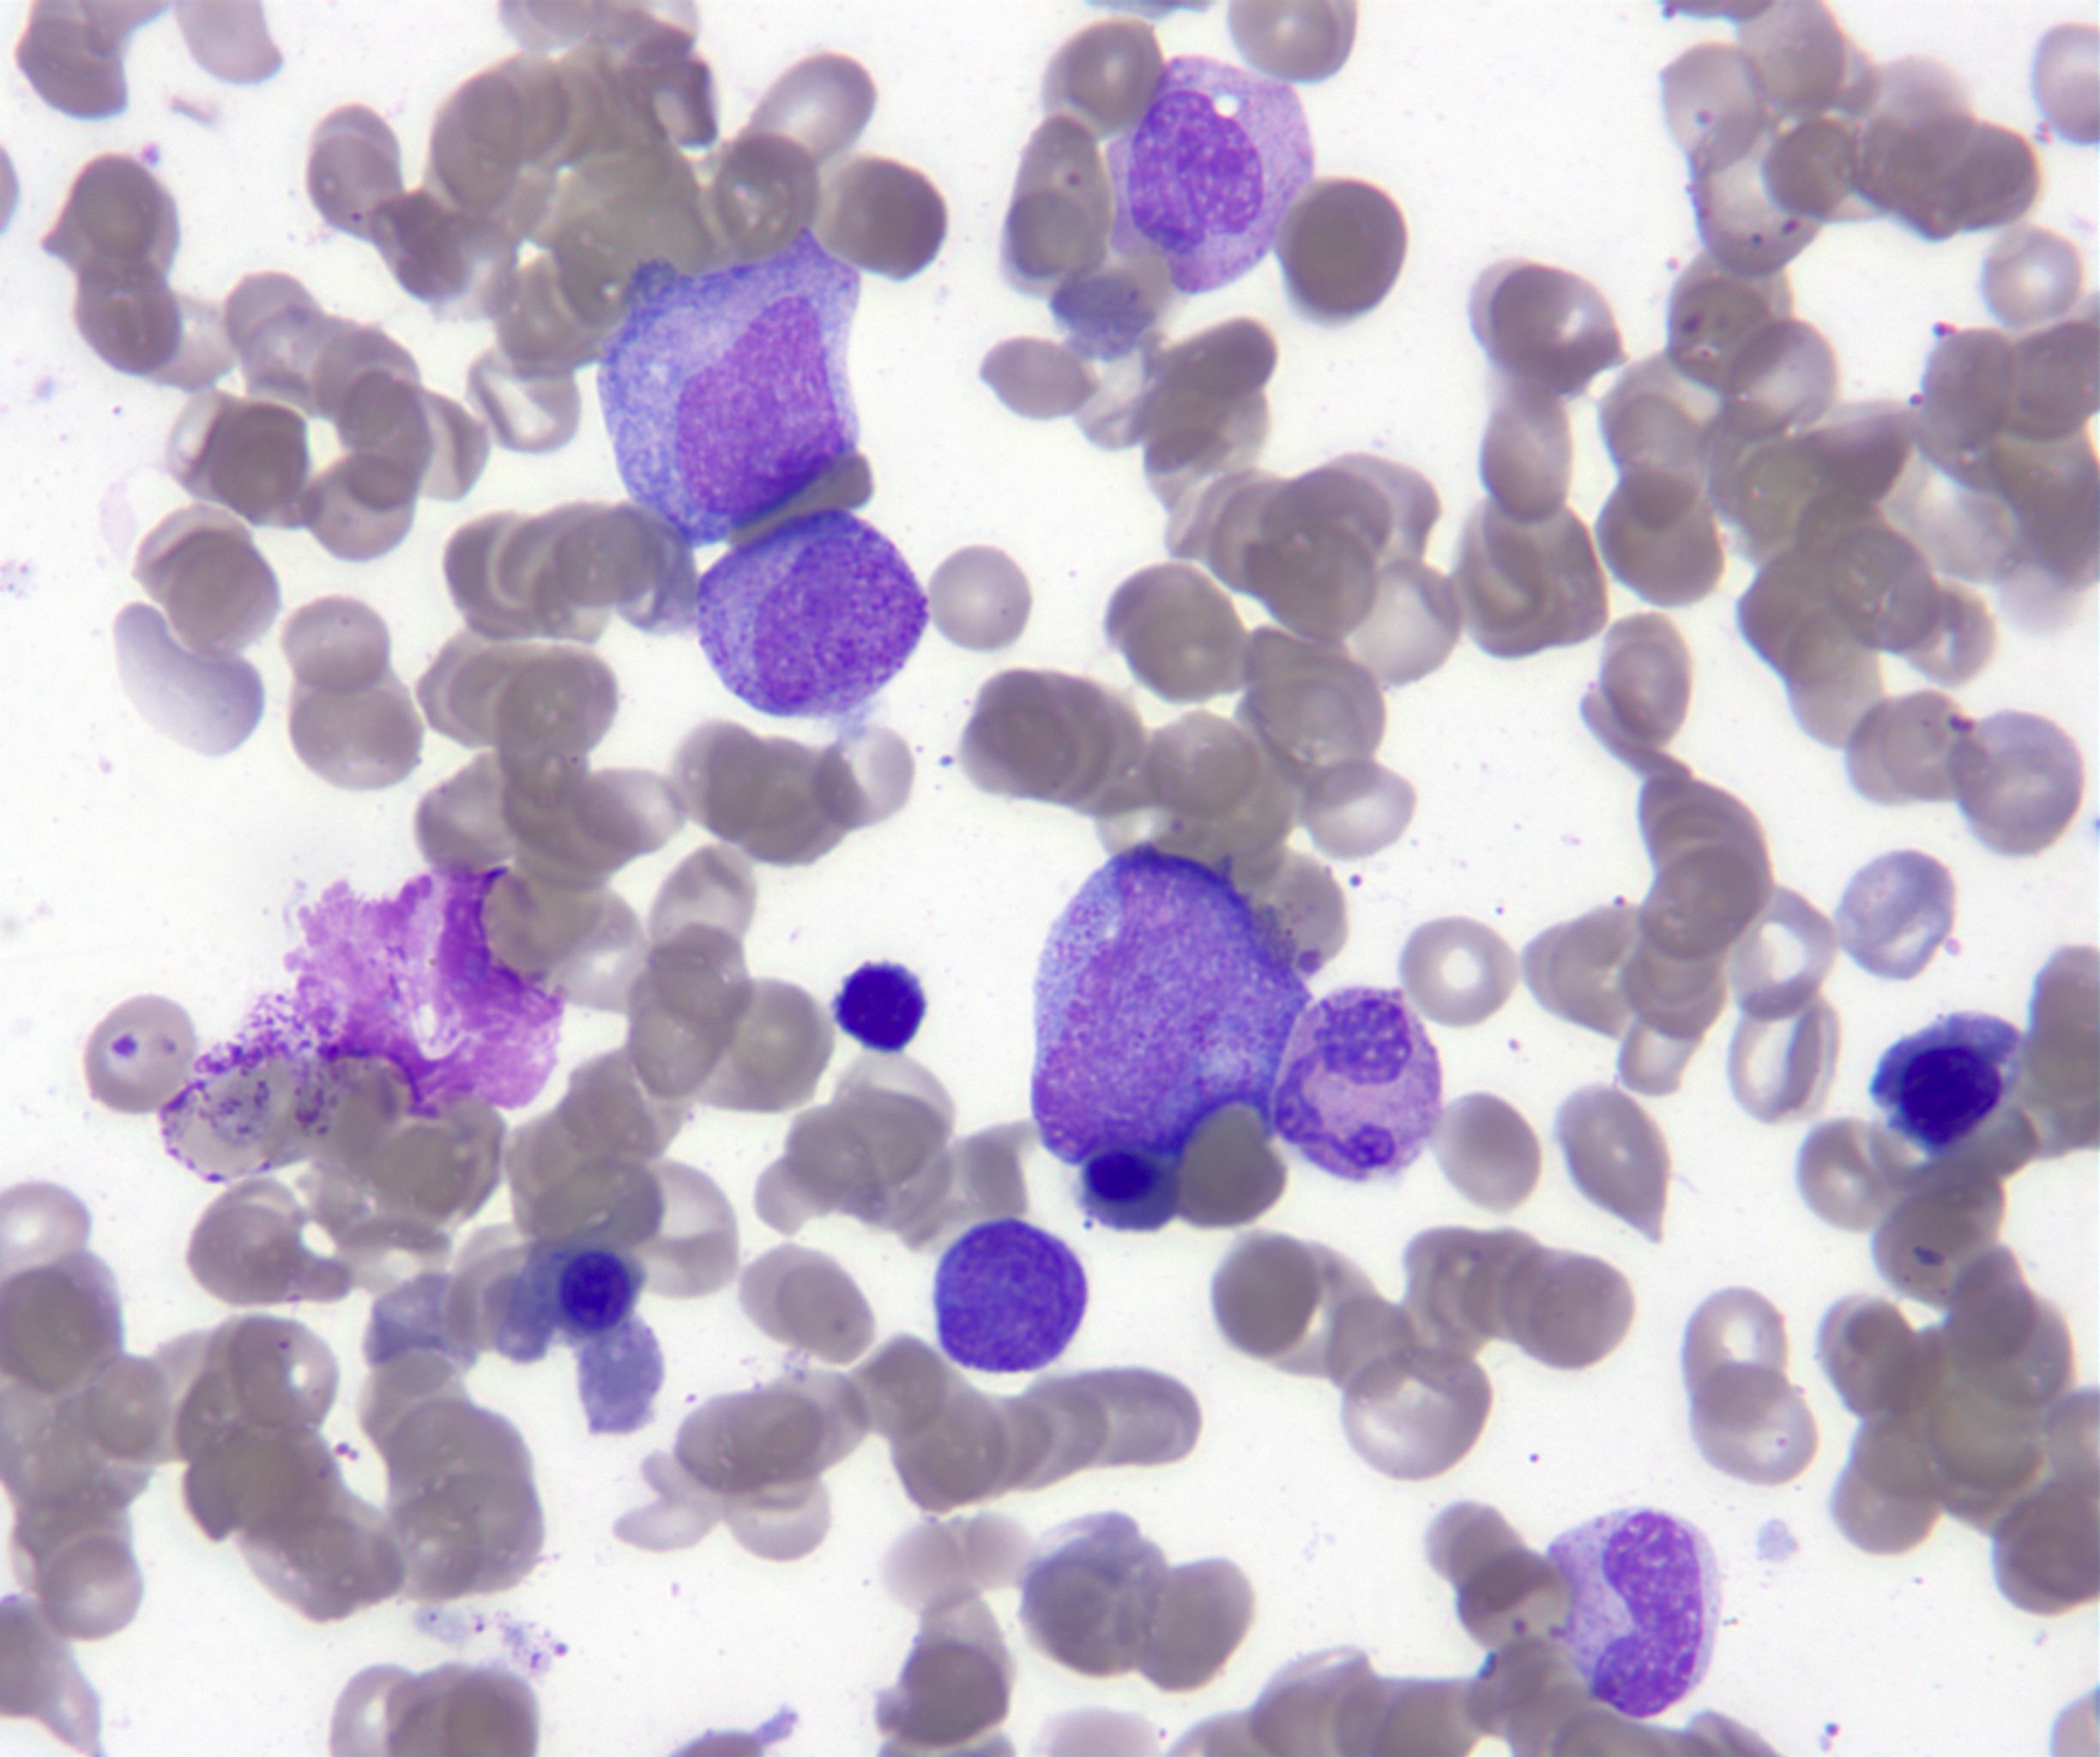24: (1870, 1008, 2020, 1150), (1078, 1148, 1181, 1234), (558, 1248, 631, 1333)
3: (1031, 851, 1312, 1166), (598, 227, 856, 539), (692, 513, 924, 715)
32: (837, 963, 928, 1052)
4: (1554, 1506, 1722, 1720)
42: (937, 1221, 1088, 1375)
5: (1102, 56, 1312, 288)
6: (1275, 982, 1444, 1185)
x: (167, 864, 560, 1178)
